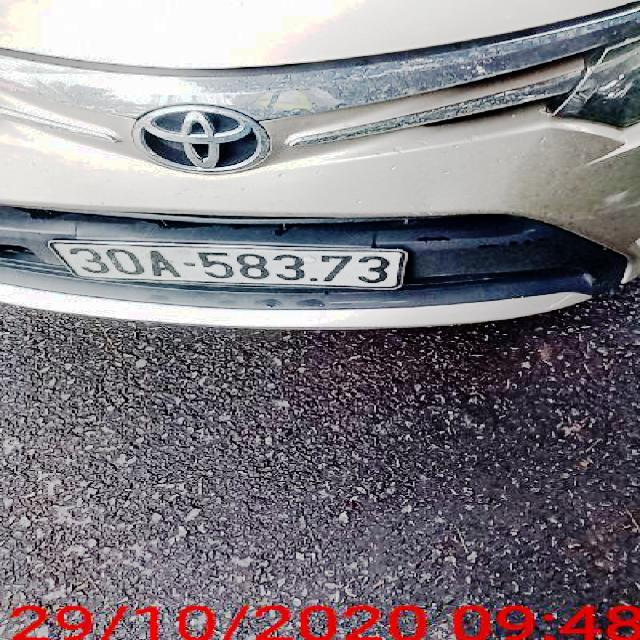license_plate: (48, 241, 411, 289)
